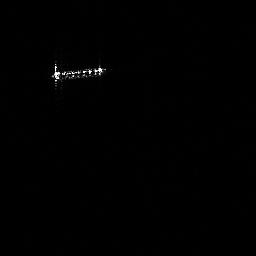ship: (52, 66, 104, 81)
